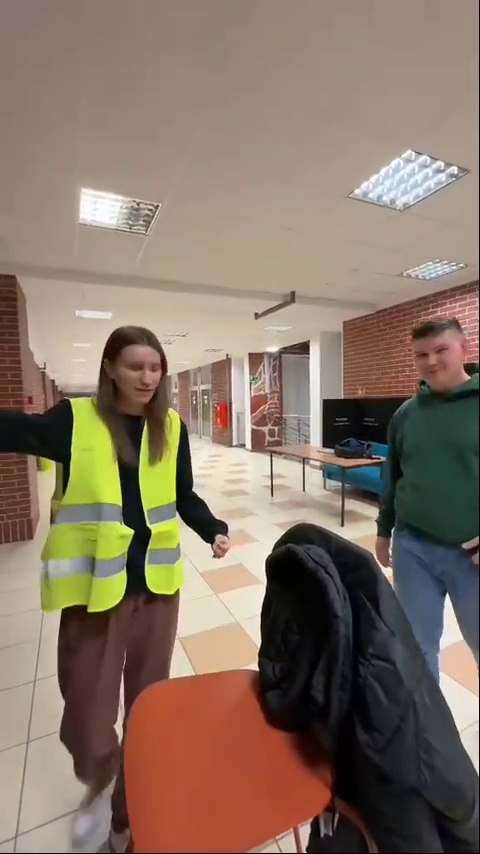no vest: (368, 311, 480, 692)
vest: (30, 321, 220, 803)
